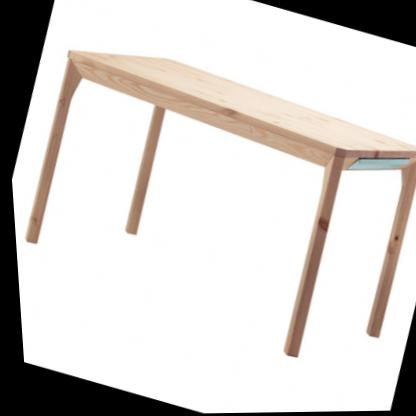Table: (1, 20, 416, 389)
